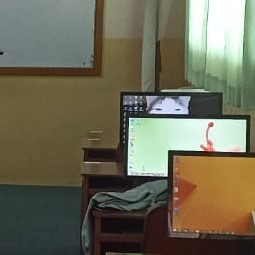monitor: (123, 114, 251, 179), (167, 150, 255, 239), (119, 91, 223, 144)
